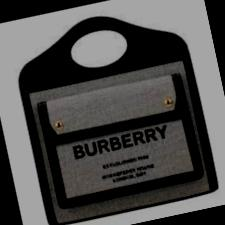BURBERRY: (71, 124, 168, 158)
